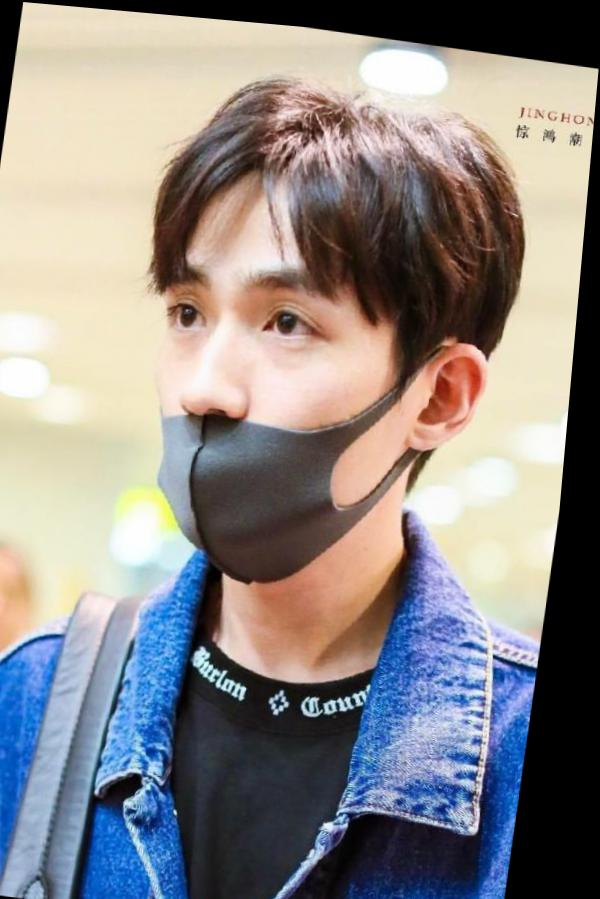WRONG: (141, 209, 432, 588)
